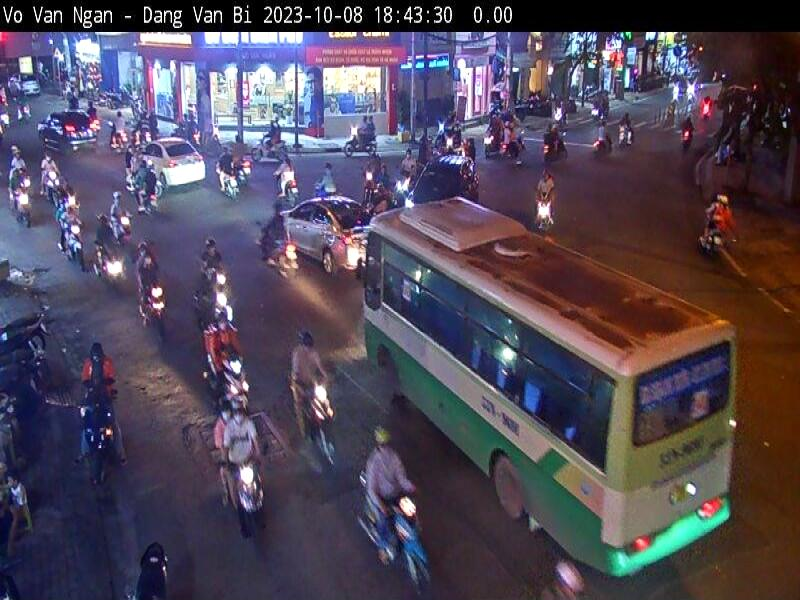bus: (353, 187, 774, 590)
car: (286, 196, 371, 276), (144, 138, 206, 186), (36, 108, 99, 152)
motorcycle: (298, 382, 351, 457), (128, 516, 172, 596), (74, 388, 116, 468), (1, 311, 58, 366), (210, 357, 254, 416), (228, 467, 266, 531), (261, 232, 300, 280), (15, 188, 44, 242), (111, 210, 141, 262), (201, 295, 238, 326), (149, 282, 169, 336), (64, 221, 86, 268), (249, 138, 285, 164), (223, 172, 236, 199), (283, 182, 297, 201)
